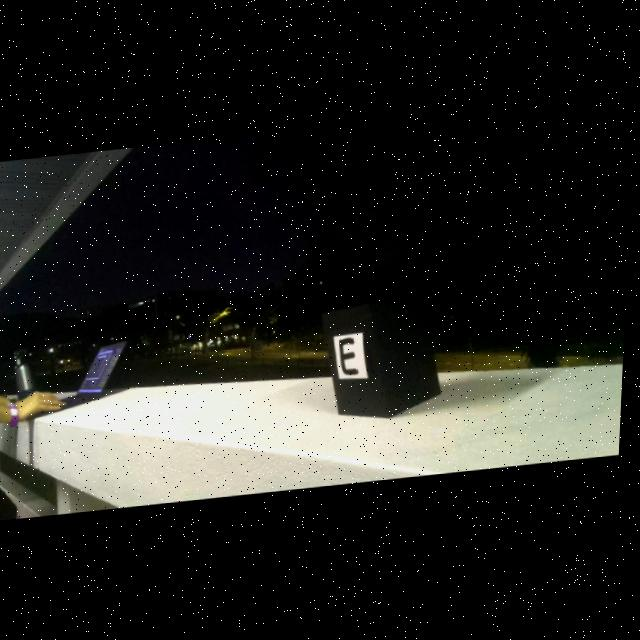E: (343, 340, 360, 377)
